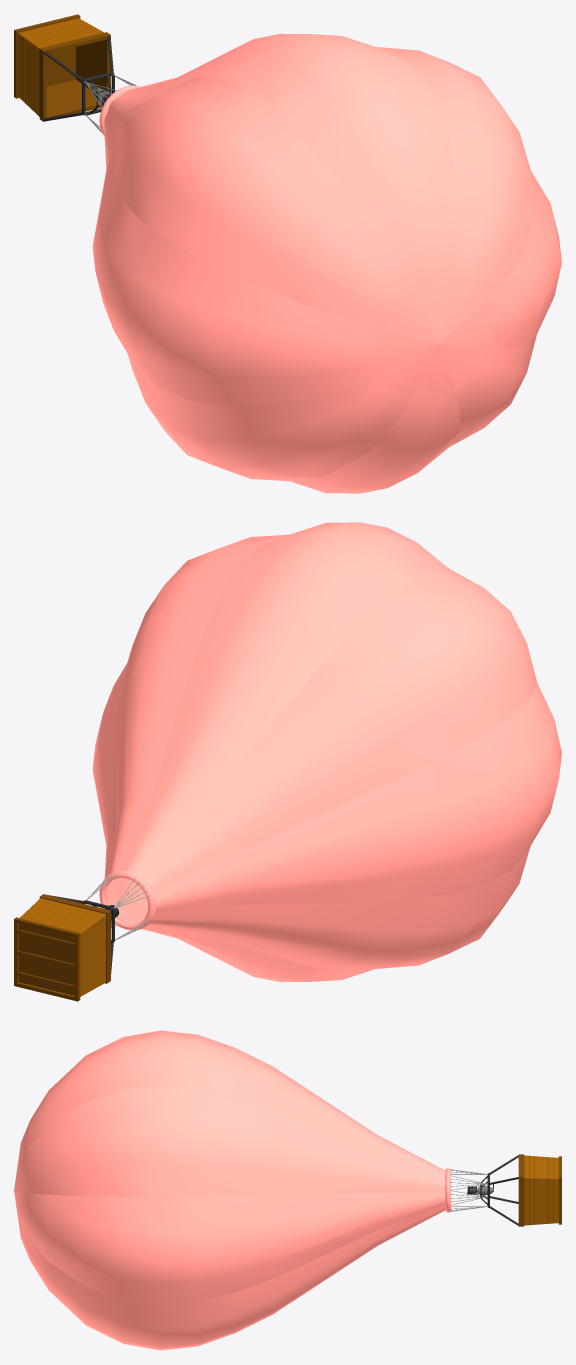
Rendered from balloon-red.glb.
3 views of the same model, one above another, from view 1: azimuth 30°, elevation 25°; view 2: azimuth 150°, elevation 25°; view 3: azimuth 270°, elevation 25° (orthographic). The views are drawn at different scales.
Visible parts, largest first — view 1: hull.001, basket.001; view 2: hull.001, basket.001; view 3: hull.001, basket.001, cables.001.
Boxes of the visible parts, x1,y1,x2,y2 form: hull.001: (92, 33, 561, 493); basket.001: (14, 14, 114, 121); hull.001: (92, 522, 561, 982); basket.001: (14, 894, 114, 1001); hull.001: (14, 1030, 450, 1350); basket.001: (487, 1154, 561, 1226); cables.001: (450, 1169, 487, 1211).
Size of the model in its own units: 18.44 by 18.44 by 30.28.
Materials: 3 (2 with a texture image).
